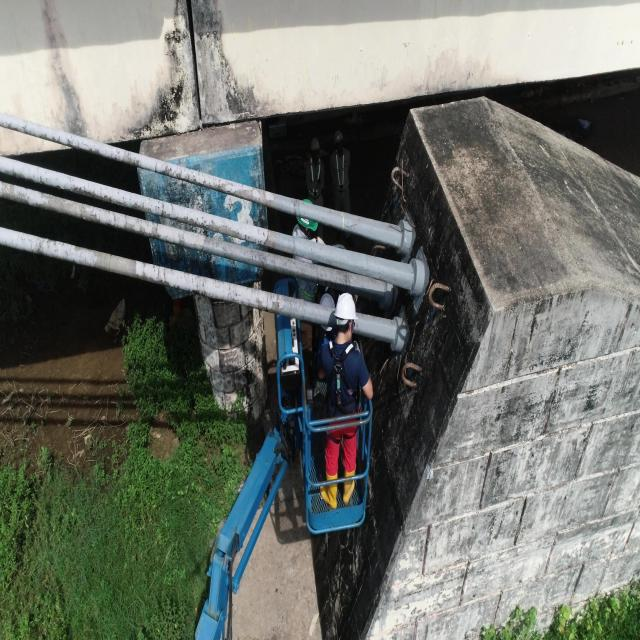crack: (156, 266, 160, 279), (298, 200, 300, 217), (163, 269, 166, 280), (356, 324, 359, 333), (266, 297, 268, 308), (110, 254, 112, 265), (80, 252, 82, 262), (203, 278, 205, 287), (155, 164, 157, 172), (166, 234, 168, 242), (40, 176, 42, 183), (142, 202, 144, 209), (80, 212, 82, 219), (168, 213, 170, 219), (260, 240, 262, 244), (78, 141, 79, 148), (245, 234, 246, 240), (254, 239, 256, 242), (62, 243, 64, 246), (184, 272, 185, 278)
